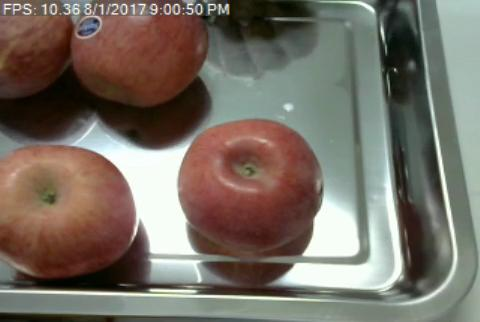apple: (178, 119, 325, 254), (0, 145, 136, 276), (70, 14, 207, 104)
